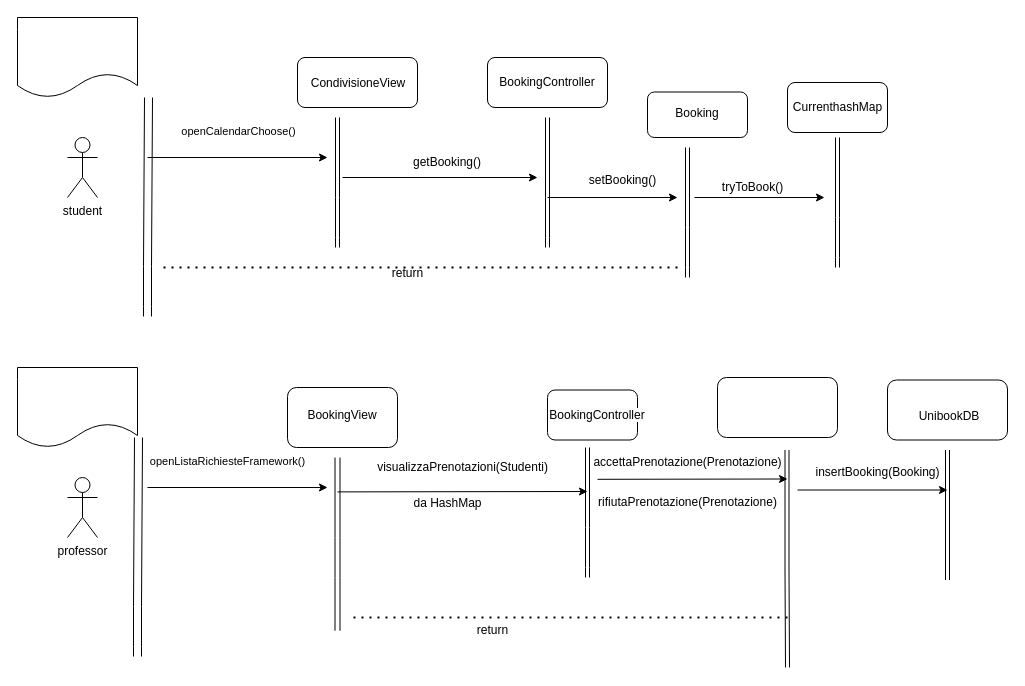
The diagram is 1025 pixels wide and 686 high, and some of its shapes have lost their labels. The box of each missing label's shape, as (x1, y1, x2, y2) in pixels:
BookingDAO: (716, 376, 838, 438)
conferma ricevimenti: (16, 366, 138, 448)
prenotazione ricevimenti: (16, 16, 138, 98)
